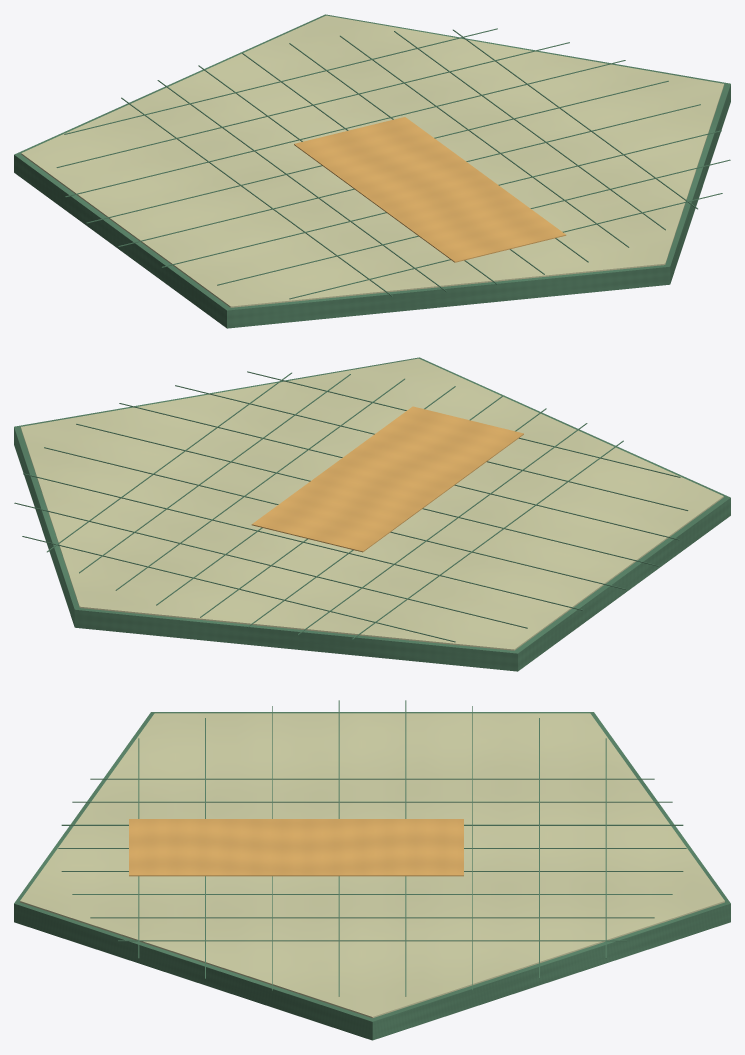
File: atlas100-s001-a07.lod1.glb
The picture shows the model from 3 angles, top to bottom: view 1: azimuth 30°, elevation 25°; view 2: azimuth 150°, elevation 25°; view 3: azimuth 270°, elevation 25°; orthographic projection. The views are drawn at different scales.
Visible parts, largest first — view 1: atlas100-s001-a07:part-001, atlas100-s001-a07:part-000, atlas100-s001-a07:part-021, atlas100-s001-a07:part-015, atlas100-s001-a07:part-014, atlas100-s001-a07:part-016, atlas100-s001-a07:part-017, atlas100-s001-a07:part-018, atlas100-s001-a07:part-013, atlas100-s001-a07:part-019, atlas100-s001-a07:part-005, atlas100-s001-a07:part-009 (+3 smaller); view 2: atlas100-s001-a07:part-001, atlas100-s001-a07:part-000, atlas100-s001-a07:part-021, atlas100-s001-a07:part-015, atlas100-s001-a07:part-014, atlas100-s001-a07:part-017, atlas100-s001-a07:part-016, atlas100-s001-a07:part-018, atlas100-s001-a07:part-013, atlas100-s001-a07:part-019, atlas100-s001-a07:part-005, atlas100-s001-a07:part-009 (+3 smaller); view 3: atlas100-s001-a07:part-001, atlas100-s001-a07:part-021, atlas100-s001-a07:part-000, atlas100-s001-a07:part-005, atlas100-s001-a07:part-004, atlas100-s001-a07:part-010, atlas100-s001-a07:part-011, atlas100-s001-a07:part-009, atlas100-s001-a07:part-006.
Part boxes in pixels (left/top/right/bottom): atlas100-s001-a07:part-001: left=21, top=15, right=724, bottom=307; atlas100-s001-a07:part-000: left=14, top=14, right=730, bottom=328; atlas100-s001-a07:part-021: left=294, top=117, right=566, bottom=262; atlas100-s001-a07:part-015: left=65, top=60, right=625, bottom=197; atlas100-s001-a07:part-014: left=56, top=42, right=569, bottom=167; atlas100-s001-a07:part-016: left=86, top=80, right=668, bottom=223; atlas100-s001-a07:part-017: left=118, top=104, right=700, bottom=246; atlas100-s001-a07:part-018: left=161, top=130, right=721, bottom=267; atlas100-s001-a07:part-013: left=64, top=28, right=497, bottom=134; atlas100-s001-a07:part-019: left=217, top=159, right=730, bottom=285; atlas100-s001-a07:part-005: left=157, top=80, right=447, bottom=291; atlas100-s001-a07:part-009: left=340, top=35, right=629, bottom=247; atlas100-s001-a07:part-001: left=20, top=358, right=723, bottom=650; atlas100-s001-a07:part-000: left=14, top=357, right=730, bottom=671; atlas100-s001-a07:part-021: left=251, top=406, right=523, bottom=552; atlas100-s001-a07:part-015: left=23, top=473, right=583, bottom=610; atlas100-s001-a07:part-014: left=14, top=502, right=527, bottom=628; atlas100-s001-a07:part-017: left=76, top=423, right=658, bottom=566; atlas100-s001-a07:part-016: left=44, top=447, right=626, bottom=589; atlas100-s001-a07:part-018: left=119, top=403, right=679, bottom=540; atlas100-s001-a07:part-013: left=22, top=536, right=455, bottom=642; atlas100-s001-a07:part-019: left=175, top=385, right=688, bottom=510; atlas100-s001-a07:part-005: left=297, top=423, right=587, bottom=634; atlas100-s001-a07:part-009: left=115, top=378, right=404, bottom=590; atlas100-s001-a07:part-001: left=20, top=713, right=724, bottom=1018; atlas100-s001-a07:part-021: left=129, top=819, right=463, bottom=876; atlas100-s001-a07:part-000: left=14, top=712, right=730, bottom=1040; atlas100-s001-a07:part-005: left=72, top=801, right=672, bottom=802; atlas100-s001-a07:part-004: left=90, top=778, right=654, bottom=779; atlas100-s001-a07:part-010: left=90, top=917, right=654, bottom=918; atlas100-s001-a07:part-011: left=118, top=940, right=626, bottom=941; atlas100-s001-a07:part-009: left=72, top=894, right=672, bottom=894; atlas100-s001-a07:part-006: left=61, top=824, right=683, bottom=825.
Size of the model in its own units: 12.43 by 0.404 by 11.81.
Materials: 3 (3 with a texture image).
